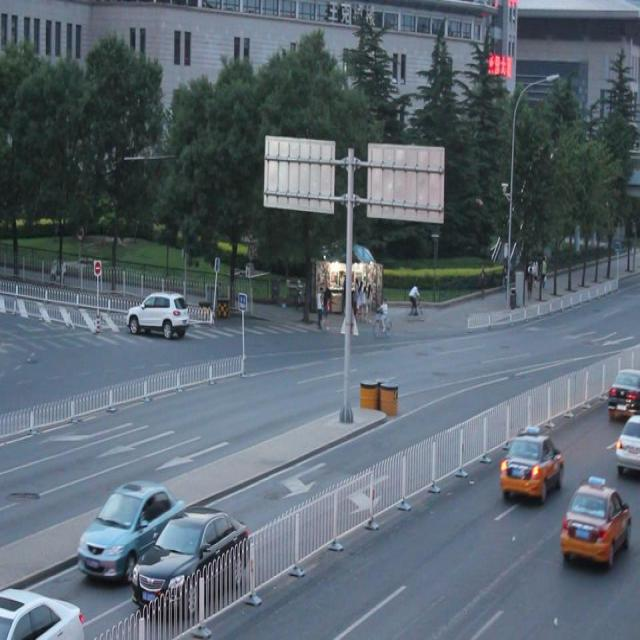car: (133, 500, 248, 608), (76, 480, 185, 576), (558, 479, 630, 565), (1, 582, 84, 640), (498, 430, 562, 503), (126, 288, 188, 339), (605, 366, 640, 418), (612, 412, 640, 477)
